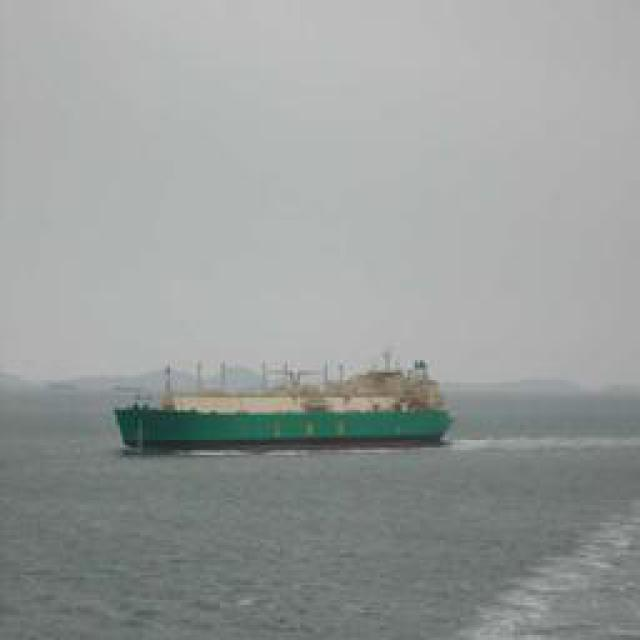Ship: (118, 389, 463, 454)
